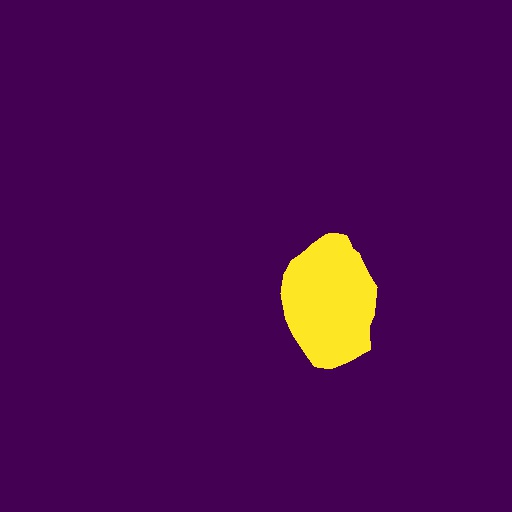Gliomia_tumour: (280, 233, 378, 369)
